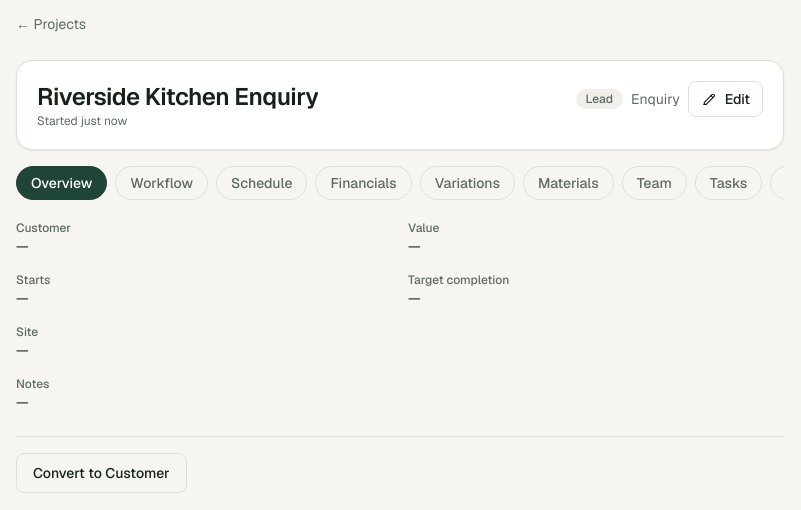
Scenario: ProjectDetailPage — site visit scheduling (Sprint 022) › shows_schedule_site_visit_for_staff
The width and height of the screenshot is (801, 510).
Click the tab "Schedule" at point(262, 183), box x1=216 y1=166 x2=308 y2=200
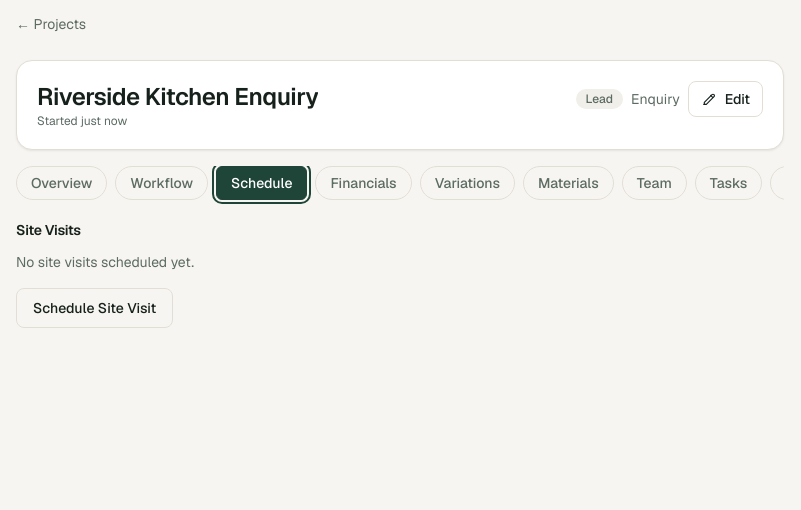
Result: the button "Schedule Site Visit" is shown at x1=16 y1=288 x2=173 y2=328
